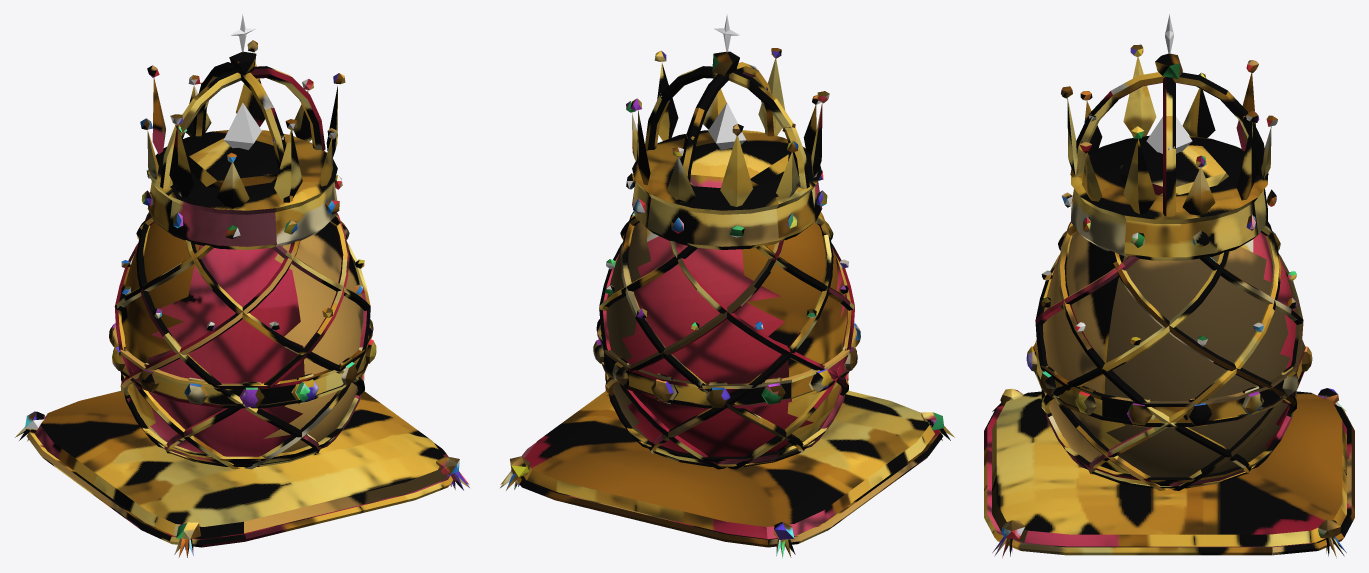
The model's file is egg_crown.fbx.
3 views of the same model, side by side, from view 1: azimuth 30°, elevation 25°; view 2: azimuth 150°, elevation 25°; view 3: azimuth 270°, elevation 25° (orthographic). The views are drawn at different scales.
Visible parts, largest first — view 1: egg_crown_body, egg_crown_body_glow; view 2: egg_crown_body, egg_crown_body_glow; view 3: egg_crown_body, egg_crown_body_glow.
Boxes of the visible parts, <box> form: egg_crown_body: <box>15,40,469,557</box>; egg_crown_body_glow: <box>224,14,261,149</box>; egg_crown_body: <box>500,48,954,558</box>; egg_crown_body_glow: <box>708,14,745,149</box>; egg_crown_body: <box>984,44,1354,558</box>; egg_crown_body_glow: <box>1146,14,1192,153</box>.
Size of the model in its own units: 320 by 448 by 320.
Materials: 2 (1 with a texture image).
